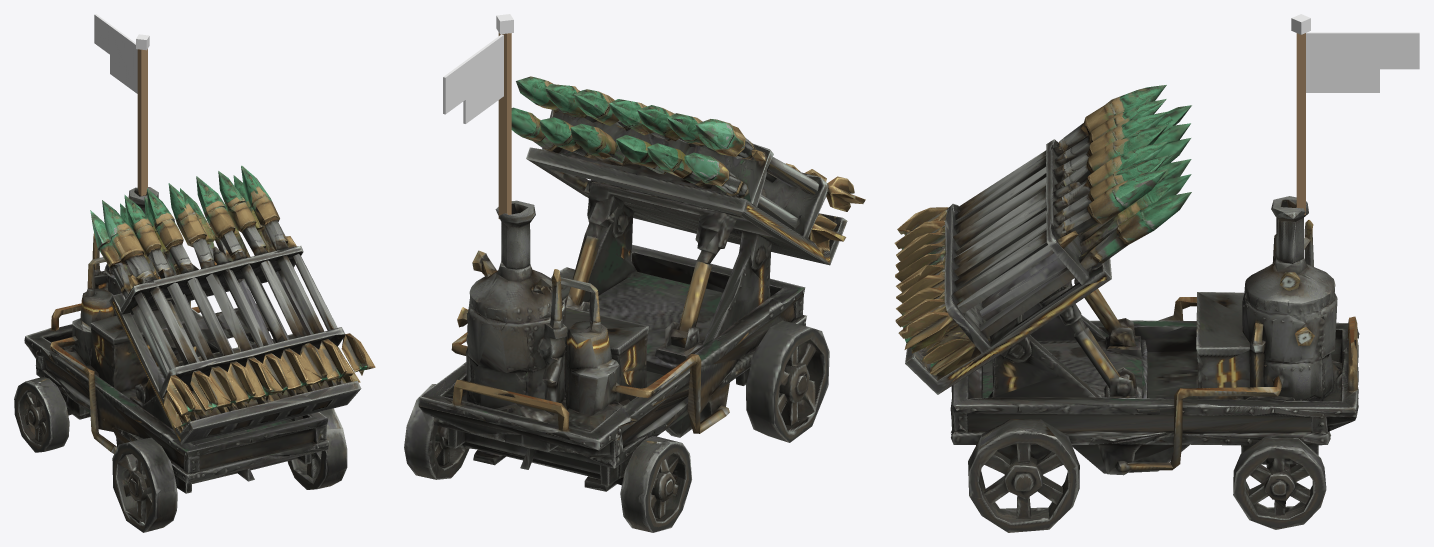
Rendered from rocket_battery.glb.
3 renders of one model, left to right at view 1: azimuth 30°, elevation 25°; view 2: azimuth 150°, elevation 25°; view 3: azimuth 270°, elevation 25°, orthographic. The views are drawn at different scales.
Visible parts, largest first — view 1: rocket_battery, Team_pennant; view 2: rocket_battery, Team_pennant; view 3: rocket_battery, Team_pennant.
Boxes of the visible parts, box(x1,y1,x2,y2) form: rocket_battery: box(14, 165, 375, 532); Team_pennant: box(94, 14, 149, 195); rocket_battery: box(404, 76, 865, 532); Team_pennant: box(443, 14, 513, 219); rocket_battery: box(894, 85, 1359, 532); Team_pennant: box(1291, 14, 1419, 214).
Bounding box in the file's own units: 1.15 × 2.13 × 2.14.
Materials: 3 (1 with a texture image).
